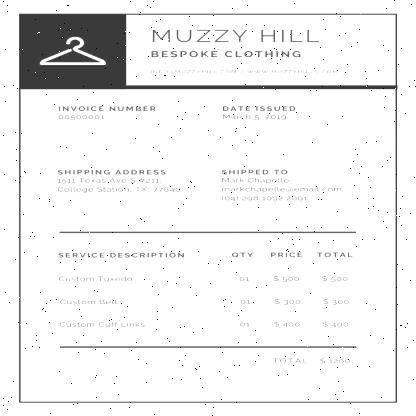Paragraph: (148, 26, 340, 76), (218, 166, 344, 204), (54, 167, 182, 195), (56, 104, 158, 122), (220, 104, 296, 122), (268, 354, 354, 368)
Table: (55, 232, 356, 346)
